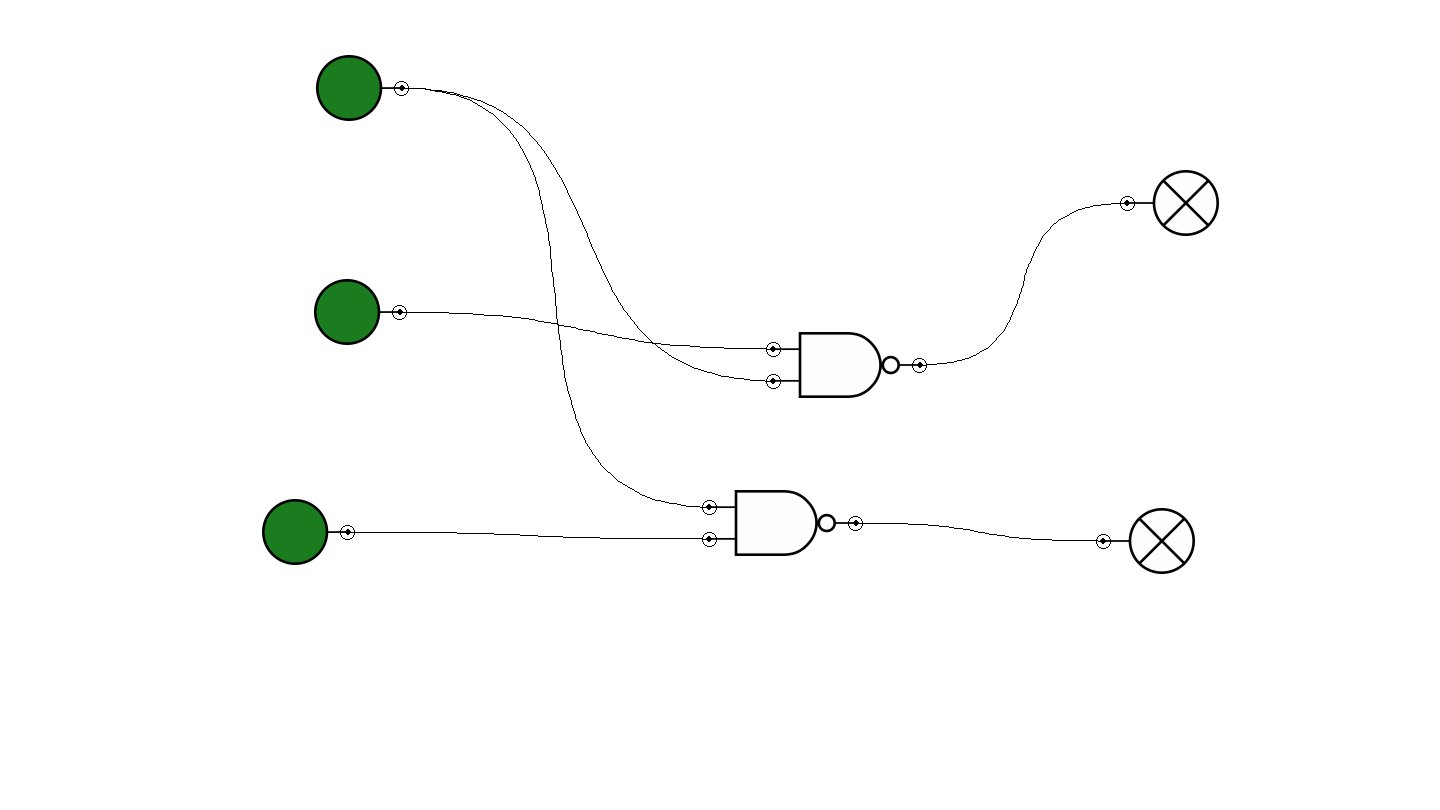bulb: (1120, 170, 1219, 236), (1096, 508, 1195, 574)
nand: (766, 332, 927, 398), (702, 490, 863, 556)
switch_True: (262, 499, 355, 565), (314, 279, 407, 345), (316, 55, 409, 121)
